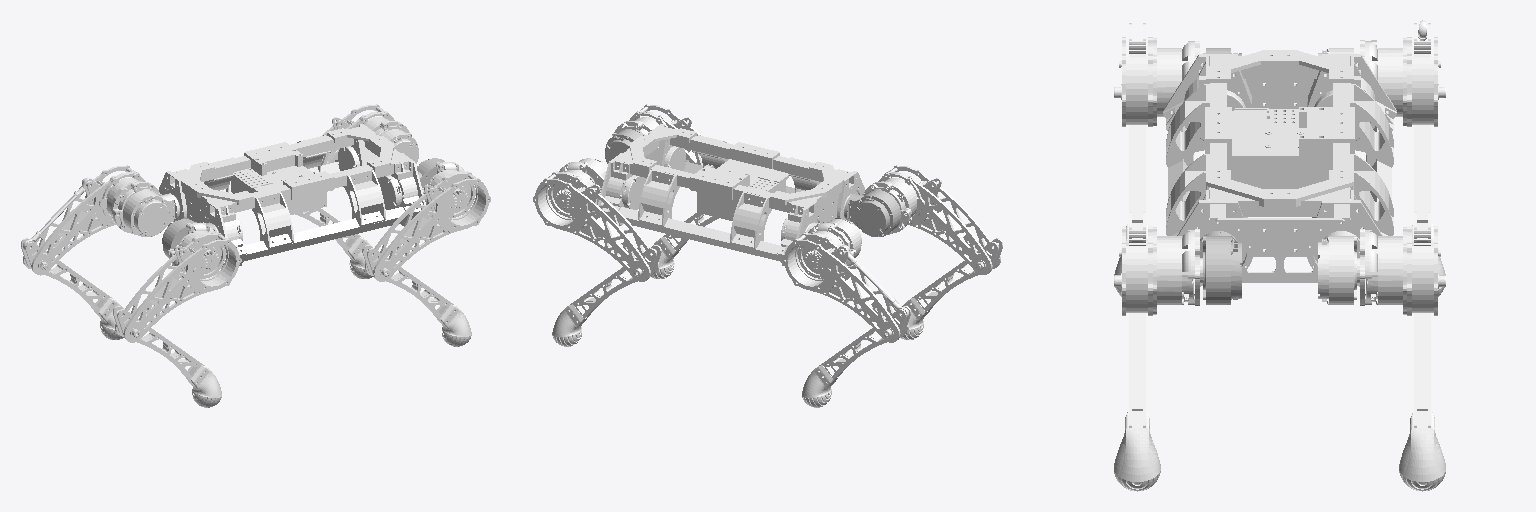
URDF robot description (LgDog1):
<?xml version="1.0" ?>
<robot name="LgDog1" xmlns:xacro="http://www.ros.org/wiki/xacro">

  <!-- ==================================================================
       ⚠️ 碰撞几何约定（照 go1.urdf）：全部用【图元】，不用网格。
       box 1（躯干 AABB）+ cylinder 16（hip×4 + thigh×8 + calf×4）+ sphere 4（足端）
       为什么不能用网格（本仓库实测到的两个后果）：
         1) PhysX 会把网格碰撞体膨胀约 8.6mm —— 曾把 12mm 的足端球整个罩住，
            导致足端接触力恒为 0、feet_air_time 等 4 个奖励静默失效；
         2) 凸包 ≠ 真实外形 —— 躯干凸包与大腿凸包在零位就相交，自碰撞力把机器人顶翻。
       图元半径取自各网格沿轴径向剖面的中位半径（代表典型表面距离），
       大腿按锥形用了两段（髋端粗 0.052、膝端细 0.019~0.028）。
       实测：膝/髋/躯干图元在正常行走范围（各关节±0.45 rad）内从不低于足端球，
       不会抢走足端的地面接触。
       ================================================================== -->

  <!-- ==================================================================
       关节 <limit> 在这里是「关节侧（输出侧）」数值，直接决定训练时的
       torque_limits（硬裁剪）与 dof_vel_limits（软限位惩罚），见
       legged_gym/envs/base/legged_robot.py:504 / 1189。

       ── 两条换算链（速度与力矩各自独立）────────────────────────────
       [1] 供电电压：电机的空载转速 ∝ 电压，原按 48V 给的 37.7 rad/s
           是 48V 下的值，实机 24V → 电机转速 37.7/2 = 18.85 rad/s。
           力矩不受影响：峰值力矩由电流上限决定（Kt·I_max），与电压无关
           （只是高转速下电压余量变小、可用力矩下降，这里按常数上限建模）。
       [2] 减速箱：calf 带 1:2 减速比，输出力矩 ×2、输出转速 ÷2。
       ⇒ 合成结果（本文件里的最终值）：
           hip / thigh（直驱）：effort 10 Nm，velocity 18.85 rad/s
           calf      （1:2）  ：effort 20 Nm，velocity  9.425 rad/s

       注意 <limit lower/upper>（角度范围）不参与任何换算，永远是关节侧数值：
       它是按腿的实际姿态目视标定的，而减速箱位于电机与关节之间，
       关节能摆多少与后面挂几比几的减速箱无关。故 calf 仍为 ±0.7
       （对应电机侧 ±1.4，该数填在驱动器/编码器的限位里，不进本文件）。
       ================================================================== -->

  <material name="black">
    <color rgba="0.0 0.0 0.0 1.0"/>
  </material>
  <material name="blue">
    <color rgba="0.0 0.0 0.8 1.0"/>
  </material>
  <material name="green">
    <color rgba="0.0 0.8 0.0 1.0"/>
  </material>
  <material name="grey">
    <color rgba="0.2 0.2 0.2 1.0"/>
  </material>
  <material name="light_grey">
    <color rgba="0.84705882 0.84705882 0.84705882 1.0"/>
  </material>
  <material name="silver">
    <color rgba="0.913725490196 0.913725490196 0.847058823529 1.0"/>
  </material>
  <material name="orange">
    <color rgba="1.0 0.423529411765 0.0392156862745 1.0"/>
  </material>
  <material name="brown">
    <color rgba="0.870588235294 0.811764705882 0.764705882353 1.0"/>
  </material>
  <material name="red">
    <color rgba="0.8 0.0 0.0 1.0"/>
  </material>
  <material name="white">
    <color rgba="1.0 1.0 1.0 1.0"/>
  </material>


  <link name="base_link">
    <visual>
      <origin rpy="0 0 0" xyz="0 0 0"/>
      <geometry>
        <mesh filename="../meshes/base_link.STL" scale="1 1 1"/>
      </geometry>
      <material name="white"/>
    </visual>
    <!-- 碰撞代理：躯干是接近长方体的壳，取网格 AABB（六个极值面精确，
         只在两腿之间的凹腔处过填——自碰撞是关的，无影响）。
         换网格碰撞的原因见文件头注释。 -->
    <collision>
      <origin rpy="0 0 0" xyz="-0.2020 0.0000 0.0023"/>
      <geometry>
        <box size="0.4040 0.2660 0.1141"/>
      </geometry>
    </collision>
    <inertial>
      <origin rpy="0 0 0" xyz="-0.21 0.003 0.004"/>
      <mass value="3.487"/>
      <inertia ixx="0.019" ixy="0" ixz="0" iyy="0.075" iyz="0" izz="0.09"/>
    </inertial>
  </link>

  <link name="FL_hip">
    <visual>
      <origin rpy="0 0 0" xyz="0 0 0"/>
      <geometry>
        <mesh filename="../meshes/FL_hip.STL" scale="1 1 1"/>
      </geometry>
      <material name="white"/>
    </visual>
    <collision>
      <origin rpy="0 1.570796 0" xyz="+0.047971 0 0"/>
      <geometry>
        <cylinder radius="0.0230" length="0.0886"/>
      </geometry>
    </collision>
    <inertial>
      <origin rpy="0 0 0" xyz="0.05265 -0.004 -0.0003443"/>
      <mass value="0.445"/>
      <inertia ixx="0.0002132" ixy="0.0000108" ixz="0.0000001" iyy="0.0003801" iyz="0" izz="0.0002938"/>
    </inertial>
  </link>

  <link name="FL_thigh">
    <visual>
      <origin rpy="0 0 0" xyz="0 0 0"/>
      <geometry>
        <mesh filename="../meshes/FL_thigh.STL" scale="1 1 1"/>
      </geometry>
      <material name="white"/>
    </visual>
    <collision>
      <origin rpy="0 -2.069089 0" xyz="-0.036567 +0.017090 -0.019895"/>
      <geometry>
        <cylinder radius="0.0518" length="0.090"/>
      </geometry>
    </collision>
    <collision>
      <origin rpy="0 -2.069089 0" xyz="-0.121889 +0.017090 -0.066318"/>
      <geometry>
        <cylinder radius="0.0194" length="0.120"/>
      </geometry>
    </collision>
    <inertial>
      <origin rpy="0 0 0" xyz="-0.0272593 0.0546815 -0.012194"/>
      <mass value="0.974"/>
      <inertia ixx="0.0015537" ixy="0.0006015" ixz="-0.0010189" iyy="0.0034659" iyz="0.0002914" izz="0.0031496"/>
    </inertial>
  </link>

  <link name="FL_calf">
    <visual>
      <origin rpy="0 0 0" xyz="0 0 0"/>
      <geometry>
        <mesh filename="../meshes/FL_calf.STL" scale="1 1 1"/>
      </geometry>
      <material name="white"/>
    </visual>
    <!-- 小腿碰撞体：胶囊（URDF 用 cylinder 表达，Isaac 侧 replace_cylinder_with_capsule=True
         会转成胶囊；MuJoCo 侧转换脚本也输出 capsule，两边形状一致）。
         轴向 = 膝轴→足端球心；r=0.035、长 0.19，末端圆头正好接上足端球。
         尺寸取自小腿网格实测截面半径（膝端 0.026 → 踝端 0.045，取 0.035 折中，误差 ≤9mm）。
         r=0.025 < 网格沿轴最小截面半径 0.026 → 胶囊内切于真实小腿，绝不会产生
         真机上不存在的碰撞。零位站姿下胶囊最低点比足端球底高 28.9mm。
         ⚠️ 必须用图元而不是网格：PhysX 会把网格碰撞体膨胀约 8.6mm，之前正是它把
            12mm 的足端球整个罩住、导致足端接触力恒为 0。
         注：腿折到极端角度（|小腿相对竖直| > 40°）时小腿本来就会触地——真实网格
            在同一角度也低 2.6mm，这是真实行为，由 collision 奖励惩罚。 -->
    <collision>
      <origin rpy="0.00023 2.414226 0" xyz="0.063166 -0.000022 -0.070958"/>
      <geometry>
        <cylinder radius="0.025" length="0.19"/>
      </geometry>
    </collision>
    <inertial>
      <origin rpy="0 0 0" xyz="0.1171227 -0.0000169 -0.1083104"/>
      <mass value="0.213"/>
      <inertia ixx="0.0007557" ixy="0.0000001" ixz="0.0006437" iyy="0.0013644" iyz="0" izz="0.0006473"/>
    </inertial>
  </link>

  <link name="FR_hip">
    <visual>
      <origin rpy="0 0 0" xyz="0 0 0"/>
      <geometry>
        <mesh filename="../meshes/FR_hip.STL" scale="1 1 1"/>
      </geometry>
      <material name="light_grey"/>
    </visual>
    <collision>
      <origin rpy="0 1.570796 0" xyz="+0.050321 0 0"/>
      <geometry>
        <cylinder radius="0.0230" length="0.0886"/>
      </geometry>
    </collision>
    <inertial>
      <origin rpy="0 0 0" xyz="0.055 0.004 -0.0003443"/>
      <mass value="0.445"/>
      <inertia ixx="0.0002132" ixy="-0.0000108" ixz="-0.0000001" iyy="0.0003801" iyz="0" izz="0.0002938"/>
    </inertial>
  </link>

  <link name="FR_thigh">
    <visual>
      <origin rpy="0 0 0" xyz="0 0 0"/>
      <geometry>
        <mesh filename="../meshes/FR_thigh.STL" scale="1 1 1"/>
      </geometry>
      <material name="white"/>
    </visual>
    <collision>
      <origin rpy="0 -2.069089 0" xyz="-0.036567 -0.017090 -0.019895"/>
      <geometry>
        <cylinder radius="0.0520" length="0.090"/>
      </geometry>
    </collision>
    <collision>
      <origin rpy="0 -2.069089 0" xyz="-0.121889 -0.017090 -0.066318"/>
      <geometry>
        <cylinder radius="0.0195" length="0.120"/>
      </geometry>
    </collision>
    <inertial>
      <origin rpy="0 0 0" xyz="-0.0272643 -0.0546799 -0.012196"/>
      <mass value="0.974"/>
      <inertia ixx="0.0015537" ixy="-0.0006017" ixz="-0.0010193" iyy="0.0034669" iyz="-0.0002914" izz="0.0031506"/>
    </inertial>
  </link>

  <link name="FR_calf">
    <visual>
      <origin rpy="0 0 0" xyz="0 0 0"/>
      <geometry>
        <mesh filename="../meshes/FR_calf.STL" scale="1 1 1"/>
      </geometry>
      <material name="white"/>
    </visual>
    <collision>
      <origin rpy="0.00023 2.414226 0" xyz="0.063166 -0.000022 -0.070958"/>
      <geometry>
        <cylinder radius="0.025" length="0.19"/>
      </geometry>
    </collision>
    <inertial>
      <origin rpy="0 0 0" xyz="0.1171227 -0.0000169 -0.1083104"/>
      <mass value="0.213"/>
      <inertia ixx="0.0007557" ixy="0.0000001" ixz="0.0006437" iyy="0.0013644" iyz="0" izz="0.0006473"/>
    </inertial>
  </link>

  <link name="RL_hip">
    <visual>
      <origin rpy="0 0 0" xyz="0 0 0"/>
      <geometry>
        <mesh filename="../meshes/RL_hip.STL" scale="1 1 1"/>
      </geometry>
      <material name="white"/>
    </visual>
    <collision>
      <origin rpy="0 1.570796 0" xyz="-0.046321 0 0"/>
      <geometry>
        <cylinder radius="0.0230" length="0.0886"/>
      </geometry>
    </collision>
    <inertial>
      <origin rpy="0 0 0" xyz="-0.051 -0.004 -0.0003443"/>
      <mass value="0.445"/>
      <inertia ixx="0.0002132" ixy="-0.0000108" ixz="0.0000001" iyy="0.0003801" iyz="0" izz="0.0002938"/>
    </inertial>
  </link>

  <link name="RL_thigh">
    <visual>
      <origin rpy="0 0 0" xyz="0 0 0"/>
      <geometry>
        <mesh filename="../meshes/RL_thigh.STL" scale="1 1 1"/>
      </geometry>
      <material name="white"/>
    </visual>
    <collision>
      <origin rpy="0 -2.069089 0" xyz="-0.036567 +0.017090 -0.019895"/>
      <geometry>
        <cylinder radius="0.0533" length="0.090"/>
      </geometry>
    </collision>
    <collision>
      <origin rpy="0 -2.069089 0" xyz="-0.121889 +0.017090 -0.066318"/>
      <geometry>
        <cylinder radius="0.0279" length="0.120"/>
      </geometry>
    </collision>
    <inertial>
      <origin rpy="0 0 0" xyz="-0.0294439 0.0544466 -0.012067"/>
      <mass value="0.974"/>
      <inertia ixx="0.0015678" ixy="0.0006241" ixz="-0.0010071" iyy="0.003614" iyz="0.0002794" izz="0.0033063"/>
    </inertial>
  </link>

  <link name="RL_calf">
    <visual>
      <origin rpy="0 0 0" xyz="0 0 0"/>
      <geometry>
        <mesh filename="../meshes/RL_calf.STL" scale="1 1 1"/>
      </geometry>
      <material name="white"/>
    </visual>
    <collision>
      <origin rpy="0.00023 2.414226 0" xyz="0.063166 -0.000022 -0.070958"/>
      <geometry>
        <cylinder radius="0.025" length="0.19"/>
      </geometry>
    </collision>
    <inertial>
      <origin rpy="0 0 0" xyz="0.116141 -0.0000168 -0.1074025"/>
      <mass value="0.213"/>
      <inertia ixx="0.0007704" ixy="0.0000001" ixz="0.0006608" iyy="0.0013981" iyz="0" izz="0.0006663"/>
    </inertial>
  </link>

  <link name="RR_hip">
    <visual>
      <origin rpy="0 0 0" xyz="0 0 0"/>
      <geometry>
        <mesh filename="../meshes/RR_hip.STL" scale="1 1 1"/>
      </geometry>
      <material name="light_grey"/>
    </visual>
    <collision>
      <origin rpy="0 1.570796 0" xyz="-0.046321 0 0"/>
      <geometry>
        <cylinder radius="0.0230" length="0.0886"/>
      </geometry>
    </collision>
    <inertial>
      <origin rpy="0 0 0" xyz="-0.051 0.004 -0.0003443"/>
      <mass value="0.445"/>
      <inertia ixx="0.0002132" ixy="0.0000108" ixz="-0.0000001" iyy="0.0003801" iyz="0" izz="0.0002938"/>
    </inertial>
  </link>

  <link name="RR_thigh">
    <visual>
      <origin rpy="0 0 0" xyz="0 0 0"/>
      <geometry>
        <mesh filename="../meshes/RR_thigh.STL" scale="1 1 1"/>
      </geometry>
      <material name="white"/>
    </visual>
    <collision>
      <origin rpy="0 -2.069089 0" xyz="-0.036567 -0.017090 -0.019895"/>
      <geometry>
        <cylinder radius="0.0520" length="0.090"/>
      </geometry>
    </collision>
    <collision>
      <origin rpy="0 -2.069089 0" xyz="-0.121889 -0.017090 -0.066318"/>
      <geometry>
        <cylinder radius="0.0195" length="0.120"/>
      </geometry>
    </collision>
    <inertial>
      <origin rpy="0 0 0" xyz="-0.0272643 -0.0546799 -0.012196"/>
      <mass value="0.974"/>
      <inertia ixx="0.0015537" ixy="-0.0006017" ixz="-0.0010193" iyy="0.0034669" iyz="-0.0002914" izz="0.0031506"/>
    </inertial>
  </link>

  <link name="RR_calf">
    <visual>
      <origin rpy="0 0 0" xyz="0 0 0"/>
      <geometry>
        <mesh filename="../meshes/RR_calf.STL" scale="1 1 1"/>
      </geometry>
      <material name="white"/>
    </visual>
    <collision>
      <origin rpy="0.00023 2.414226 0" xyz="0.063166 -0.000022 -0.070958"/>
      <geometry>
        <cylinder radius="0.025" length="0.19"/>
      </geometry>
    </collision>
    <inertial>
      <origin rpy="0 0 0" xyz="0.1171227 -0.0000169 -0.1083104"/>
      <mass value="0.213"/>
      <inertia ixx="0.0007557" ixy="0.0000001" ixz="0.0006437" iyy="0.0013644" iyz="0" izz="0.0006473"/>
    </inertial>
  </link>


  <joint name="FL_hip_joint" type="revolute">
    <origin rpy="0 0 0" xyz="-0.00565 0.07 -0.0056557"/>
    <parent link="base_link"/>
    <child link="FL_hip"/>
    <axis xyz="1 0 0"/>
    <dynamics damping="0" friction="0"/>
    <limit effort="10" lower="-1.45" upper="1.45" velocity="18.85"/>
  </joint>

  <joint name="FL_thigh_joint" type="revolute">
    <origin rpy="0 0 0" xyz="0.05515 0.014 0"/>
    <parent link="FL_hip"/>
    <child link="FL_thigh"/>
    <axis xyz="0 1 0"/>
    <dynamics damping="0" friction="0"/>
    <limit effort="10" lower="-1.75" upper="1.75" velocity="18.85"/>
  </joint>

  <joint name="FL_calf_joint" type="revolute">
    <origin rpy="0 0 0" xyz="-0.1668959 0.078 -0.0908061"/>
    <parent link="FL_thigh"/>
    <child link="FL_calf"/>
    <axis xyz="0 1 0"/>
    <dynamics damping="0" friction="0"/>
    <limit effort="20" lower="-0.85" upper="0.85" velocity="9.425"/>
  </joint>

  <!-- ==================================================================
       足端：独立 link + 固定关节（照 go1.urdf 的 FL_foot 约定）
       为什么必须有：legged_gym 用 body 名做子串匹配找脚
         feet_names = [s for s in body_names if cfg.asset.foot_name in s]
       URDF 里没有名字含 "foot" 的 link 时，feet_indices 为空，
       feet_air_time / feet_stumble / foot_clearance / feet_contact_forces
       四个奖励会静默变成 0（不报错，但完全失效）。
       dont_collapse="true" 必须保留：legged_gym 的 collapse_fixed_joints=True
       否则会把这个 link 合并回 calf，名字就没了。
       球心 = 小腿网格最低点上方 r，使球底与网格最低点重合 → 站立高度不变。
       r=0.012 取自实测足端接触斑半径（最低 2mm 内贴地点半径 0.0106）。
       ================================================================== -->
  <joint name="FL_foot_fixed" type="fixed" dont_collapse="true">
    <origin rpy="0 0 0" xyz="0.156168 -0.000054 -0.175433"/>
    <parent link="FL_calf"/>
    <child link="FL_foot"/>
  </joint>
  <link name="FL_foot">
    <visual>
      <origin rpy="0 0 0" xyz="0 0 0"/>
      <geometry>
        <sphere radius="0.012"/>
      </geometry>
      <material name="black"/>
    </visual>
    <collision>
      <origin rpy="0 0 0" xyz="0 0 0"/>
      <geometry>
        <sphere radius="0.012"/>
      </geometry>
    </collision>
    <inertial>
      <mass value="0.01"/>
      <inertia ixx="5.76e-07" ixy="0.0" ixz="0.0" iyy="5.76e-07" iyz="0.0" izz="5.76e-07"/>
    </inertial>
  </link>

  <joint name="FR_hip_joint" type="revolute">
    <origin rpy="0 0 0" xyz="-0.008 -0.07 -0.0056557"/>
    <parent link="base_link"/>
    <child link="FR_hip"/>
    <axis xyz="1 0 0"/>
    <dynamics damping="0" friction="0"/>
    <limit effort="10" lower="-1.45" upper="1.45" velocity="18.85"/>
  </joint>

  <joint name="FR_thigh_joint" type="revolute">
    <origin rpy="0 0 0" xyz="0.0575 -0.014 0"/>
    <parent link="FR_hip"/>
    <child link="FR_thigh"/>
    <axis xyz="0 1 0"/>
    <dynamics damping="0" friction="0"/>
    <limit effort="10" lower="-1.75" upper="1.75" velocity="18.85"/>
  </joint>

  <joint name="FR_calf_joint" type="revolute">
    <origin rpy="0 0 0" xyz="-0.1668959 -0.078 -0.0908061"/>
    <parent link="FR_thigh"/>
    <child link="FR_calf"/>
    <axis xyz="0 1 0"/>
    <dynamics damping="0" friction="0"/>
    <limit effort="20" lower="-0.85" upper="0.85" velocity="9.425"/>
  </joint>

  <joint name="FR_foot_fixed" type="fixed" dont_collapse="true">
    <origin rpy="0 0 0" xyz="0.156168 -0.000054 -0.175433"/>
    <parent link="FR_calf"/>
    <child link="FR_foot"/>
  </joint>
  <link name="FR_foot">
    <visual>
      <origin rpy="0 0 0" xyz="0 0 0"/>
      <geometry>
        <sphere radius="0.012"/>
      </geometry>
      <material name="black"/>
    </visual>
    <collision>
      <origin rpy="0 0 0" xyz="0 0 0"/>
      <geometry>
        <sphere radius="0.012"/>
      </geometry>
    </collision>
    <inertial>
      <mass value="0.01"/>
      <inertia ixx="5.76e-07" ixy="0.0" ixz="0.0" iyy="5.76e-07" iyz="0.0" izz="5.76e-07"/>
    </inertial>
  </link>

  <joint name="RL_hip_joint" type="revolute">
    <origin rpy="0 0 0" xyz="-0.404 0.07 -0.0056557"/>
    <parent link="base_link"/>
    <child link="RL_hip"/>
    <axis xyz="1 0 0"/>
    <dynamics damping="0" friction="0"/>
    <limit effort="10" lower="-1.45" upper="1.45" velocity="18.85"/>
  </joint>

  <joint name="RL_thigh_joint" type="revolute">
    <origin rpy="0 0 0" xyz="-0.0535 0.014 0"/>
    <parent link="RL_hip"/>
    <child link="RL_thigh"/>
    <axis xyz="0 1 0"/>
    <dynamics damping="0" friction="0"/>
    <limit effort="10" lower="-1.75" upper="1.75" velocity="18.85"/>
  </joint>

  <joint name="RL_calf_joint" type="revolute">
    <origin rpy="0 0 0" xyz="-0.1668959 0.078 -0.0908061"/>
    <parent link="RL_thigh"/>
    <child link="RL_calf"/>
    <axis xyz="0 1 0"/>
    <dynamics damping="0" friction="0"/>
    <limit effort="20" lower="-0.85" upper="0.85" velocity="9.425"/>
  </joint>

  <joint name="RL_foot_fixed" type="fixed" dont_collapse="true">
    <origin rpy="0 0 0" xyz="0.156168 -0.000054 -0.175433"/>
    <parent link="RL_calf"/>
    <child link="RL_foot"/>
  </joint>
  <link name="RL_foot">
    <visual>
      <origin rpy="0 0 0" xyz="0 0 0"/>
      <geometry>
        <sphere radius="0.012"/>
      </geometry>
      <material name="black"/>
    </visual>
    <collision>
      <origin rpy="0 0 0" xyz="0 0 0"/>
      <geometry>
        <sphere radius="0.012"/>
      </geometry>
    </collision>
    <inertial>
      <mass value="0.01"/>
      <inertia ixx="5.76e-07" ixy="0.0" ixz="0.0" iyy="5.76e-07" iyz="0.0" izz="5.76e-07"/>
    </inertial>
  </link>

  <joint name="RR_hip_joint" type="revolute">
    <origin rpy="0 0 0" xyz="-0.404 -0.07 -0.0056557"/>
    <parent link="base_link"/>
    <child link="RR_hip"/>
    <axis xyz="1 0 0"/>
    <dynamics damping="0" friction="0"/>
    <limit effort="10" lower="-1.45" upper="1.45" velocity="18.85"/>
  </joint>

  <joint name="RR_thigh_joint" type="revolute">
    <origin rpy="0 0 0" xyz="-0.0535 -0.014 0"/>
    <parent link="RR_hip"/>
    <child link="RR_thigh"/>
    <axis xyz="0 1 0"/>
    <dynamics damping="0" friction="0"/>
    <limit effort="10" lower="-1.75" upper="1.75" velocity="18.85"/>
  </joint>

  <joint name="RR_calf_joint" type="revolute">
    <origin rpy="0 0 0" xyz="-0.1668959 -0.078 -0.0908061"/>
    <parent link="RR_thigh"/>
    <child link="RR_calf"/>
    <axis xyz="0 1 0"/>
    <dynamics damping="0" friction="0"/>
    <limit effort="20" lower="-0.85" upper="0.85" velocity="9.425"/>
  </joint>

  <joint name="RR_foot_fixed" type="fixed" dont_collapse="true">
    <origin rpy="0 0 0" xyz="0.156168 -0.000054 -0.175433"/>
    <parent link="RR_calf"/>
    <child link="RR_foot"/>
  </joint>
  <link name="RR_foot">
    <visual>
      <origin rpy="0 0 0" xyz="0 0 0"/>
      <geometry>
        <sphere radius="0.012"/>
      </geometry>
      <material name="black"/>
    </visual>
    <collision>
      <origin rpy="0 0 0" xyz="0 0 0"/>
      <geometry>
        <sphere radius="0.012"/>
      </geometry>
    </collision>
    <inertial>
      <mass value="0.01"/>
      <inertia ixx="5.76e-07" ixy="0.0" ixz="0.0" iyy="5.76e-07" iyz="0.0" izz="5.76e-07"/>
    </inertial>
  </link>

</robot>

--- Render facts (derived) ---
The picture shows the robot from 3 angles, left to right: view 1: azimuth 30°, elevation 25°; view 2: azimuth 150°, elevation 25°; view 3: azimuth 270°, elevation 25°; orthographic projection.
Robot: LgDog1 — 17 links, 16 joints (12 revolute, 4 fixed); root link base_link; default pose: every joint at zero.
Links seen in each view (by area): view 1: base_link, RR_thigh, FR_thigh, RL_thigh, FR_calf, RR_calf, RL_hip, RL_calf, FL_thigh, FL_calf, FL_hip, RR_hip; view 2: base_link, RL_thigh, FL_thigh, RR_thigh, FL_calf, RL_calf, RR_hip, RR_calf, FR_thigh, FR_calf, FR_hip, RL_hip; view 3: base_link, FL_thigh, FR_thigh, RL_thigh, RR_thigh, FR_calf, FL_calf, FL_hip, FR_hip, RR_calf, RL_calf.
Link boxes in pixels (left/top/right/bottom): base_link: left=159, top=124, right=425, bottom=266; RR_thigh: left=115, top=222, right=241, bottom=342; FR_thigh: left=365, top=162, right=490, bottom=281; RL_thigh: left=23, top=165, right=161, bottom=275; FR_calf: left=362, top=245, right=471, bottom=346; RR_calf: left=113, top=306, right=221, bottom=407; RL_hip: left=123, top=189, right=178, bottom=236; RL_calf: left=21, top=238, right=123, bottom=339; FL_thigh: left=321, top=104, right=411, bottom=165; FL_calf: left=295, top=208, right=373, bottom=278; FL_hip: left=379, top=129, right=418, bottom=163; RR_hip: left=162, top=219, right=216, bottom=258; base_link: left=598, top=124, right=864, bottom=266; RL_thigh: left=782, top=222, right=908, bottom=342; FL_thigh: left=533, top=162, right=659, bottom=281; RR_thigh: left=862, top=165, right=1000, bottom=274; FL_calf: left=552, top=245, right=661, bottom=346; RL_calf: left=802, top=306, right=910, bottom=407; RR_hip: left=845, top=189, right=900, bottom=236; RR_calf: left=900, top=238, right=1002, bottom=339; FR_thigh: left=612, top=104, right=702, bottom=165; FR_calf: left=650, top=213, right=718, bottom=278; FR_hip: left=605, top=129, right=644, bottom=163; RL_hip: left=807, top=219, right=861, bottom=257; base_link: left=1163, top=50, right=1396, bottom=286; FL_thigh: left=1357, top=212, right=1445, bottom=315; FR_thigh: left=1114, top=212, right=1202, bottom=315; RL_thigh: left=1360, top=20, right=1445, bottom=126; RR_thigh: left=1114, top=23, right=1199, bottom=126; FR_calf: left=1114, top=313, right=1160, bottom=491; FL_calf: left=1399, top=313, right=1445, bottom=491; FL_hip: left=1318, top=231, right=1359, bottom=304; FR_hip: left=1200, top=231, right=1241, bottom=304; RR_calf: left=1114, top=125, right=1147, bottom=296; RL_calf: left=1412, top=125, right=1445, bottom=296.
Bounding box of the posed robot: 0.7541 × 0.378 × 0.3432 m (x, y, z).
Meshes: 13 distinct files referenced, 13 mesh visuals loaded (13 binary STL).
